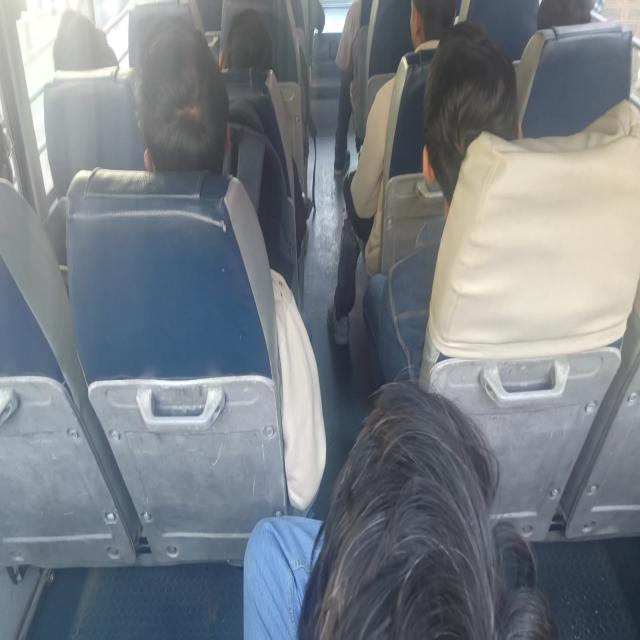person: (309, 387, 584, 640), (136, 31, 232, 199), (419, 37, 510, 212), (47, 17, 126, 82), (391, 0, 457, 71), (212, 17, 273, 77), (526, 0, 611, 41)
